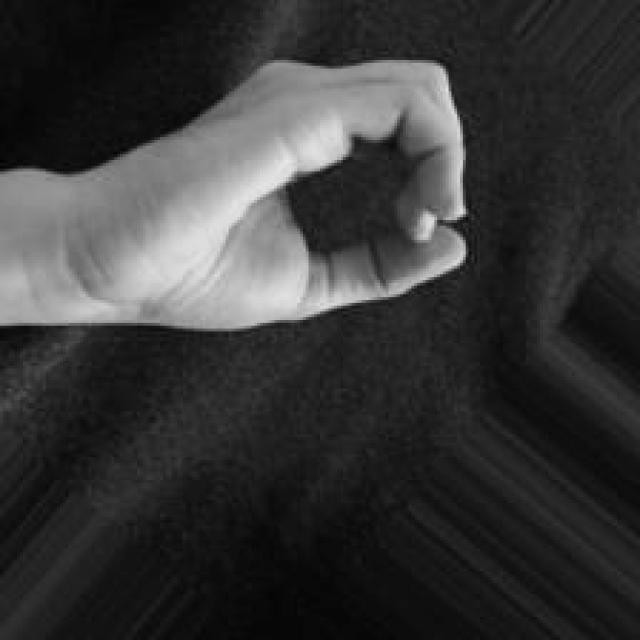O: (66, 46, 482, 345)
